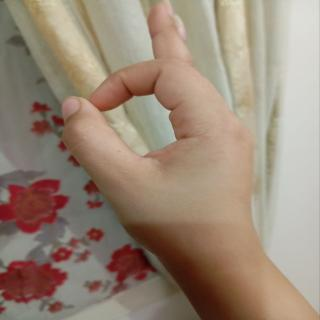Space: (41, 2, 261, 273)
